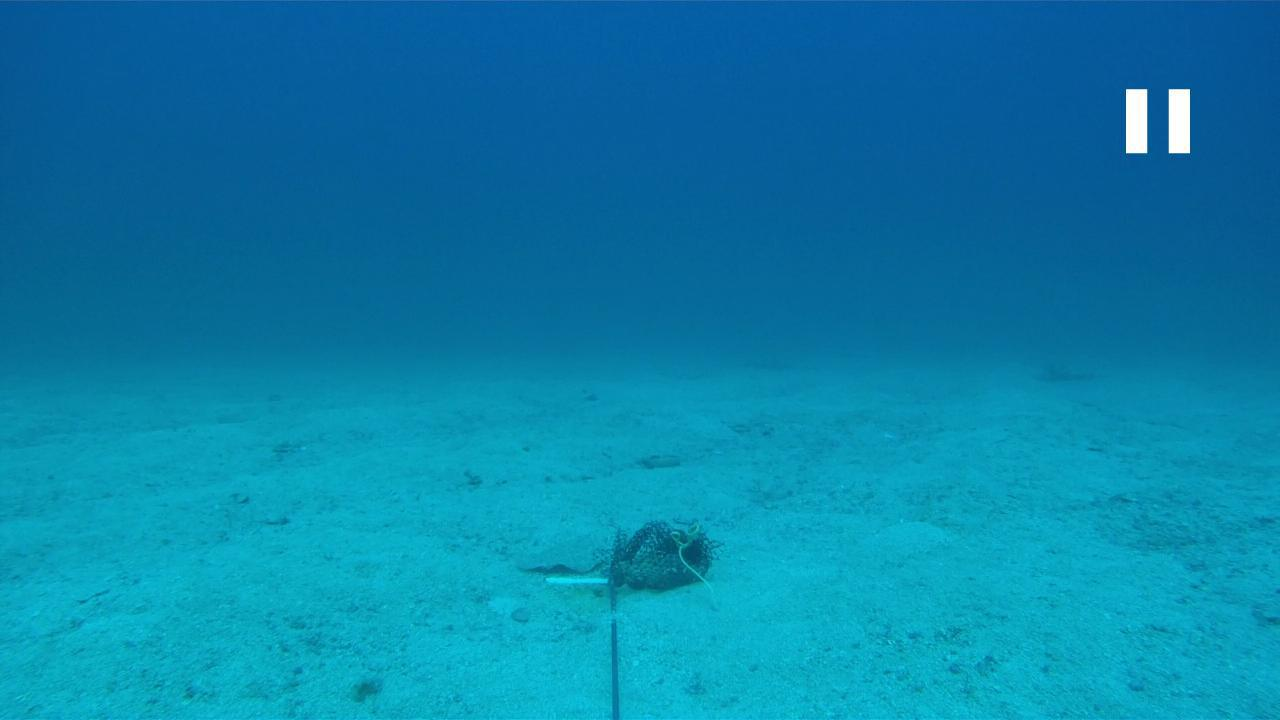bothus: (514, 526, 602, 577)
